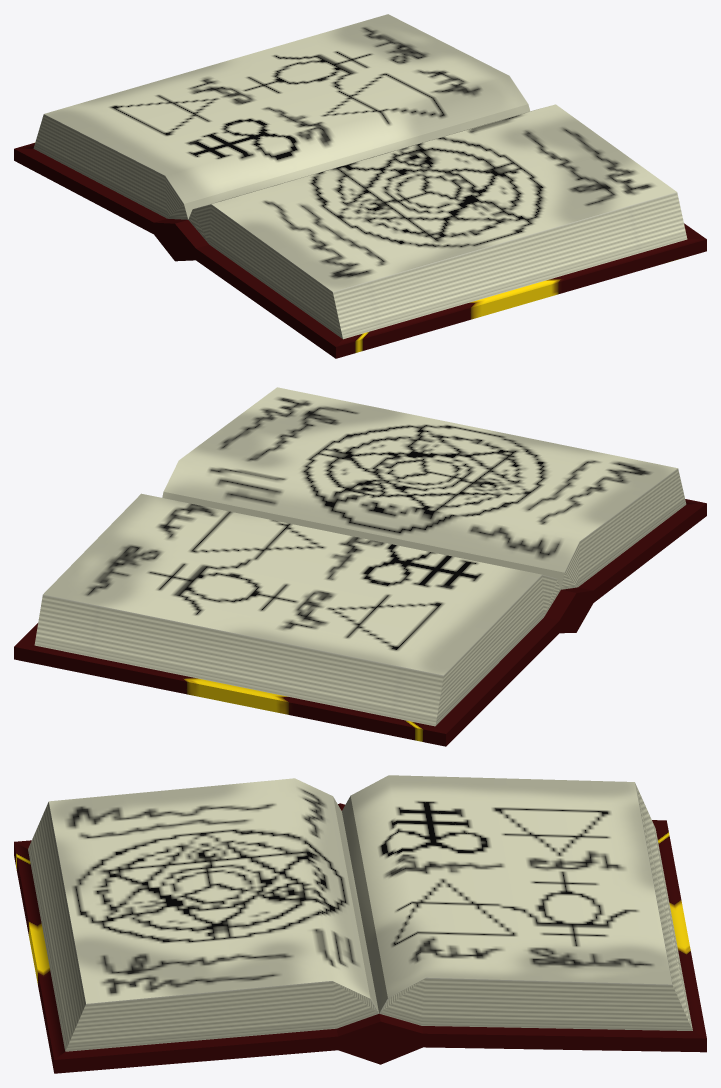
The model's file is open_spellbook.fbx.
3 renders of one model, top to bottom at view 1: azimuth 30°, elevation 25°; view 2: azimuth 150°, elevation 25°; view 3: azimuth 270°, elevation 25°, orthographic. The views are drawn at different scales.
Parts seen in each view (by area): view 1: openBook; view 2: openBook; view 3: openBook.
Part boxes in pixels (x1,y1,x2,y2): openBook: [14, 14, 706, 358]; openBook: [14, 387, 706, 746]; openBook: [14, 775, 706, 1073].
Size of the model in its own units: 6.04 by 0.9108 by 7.37.
